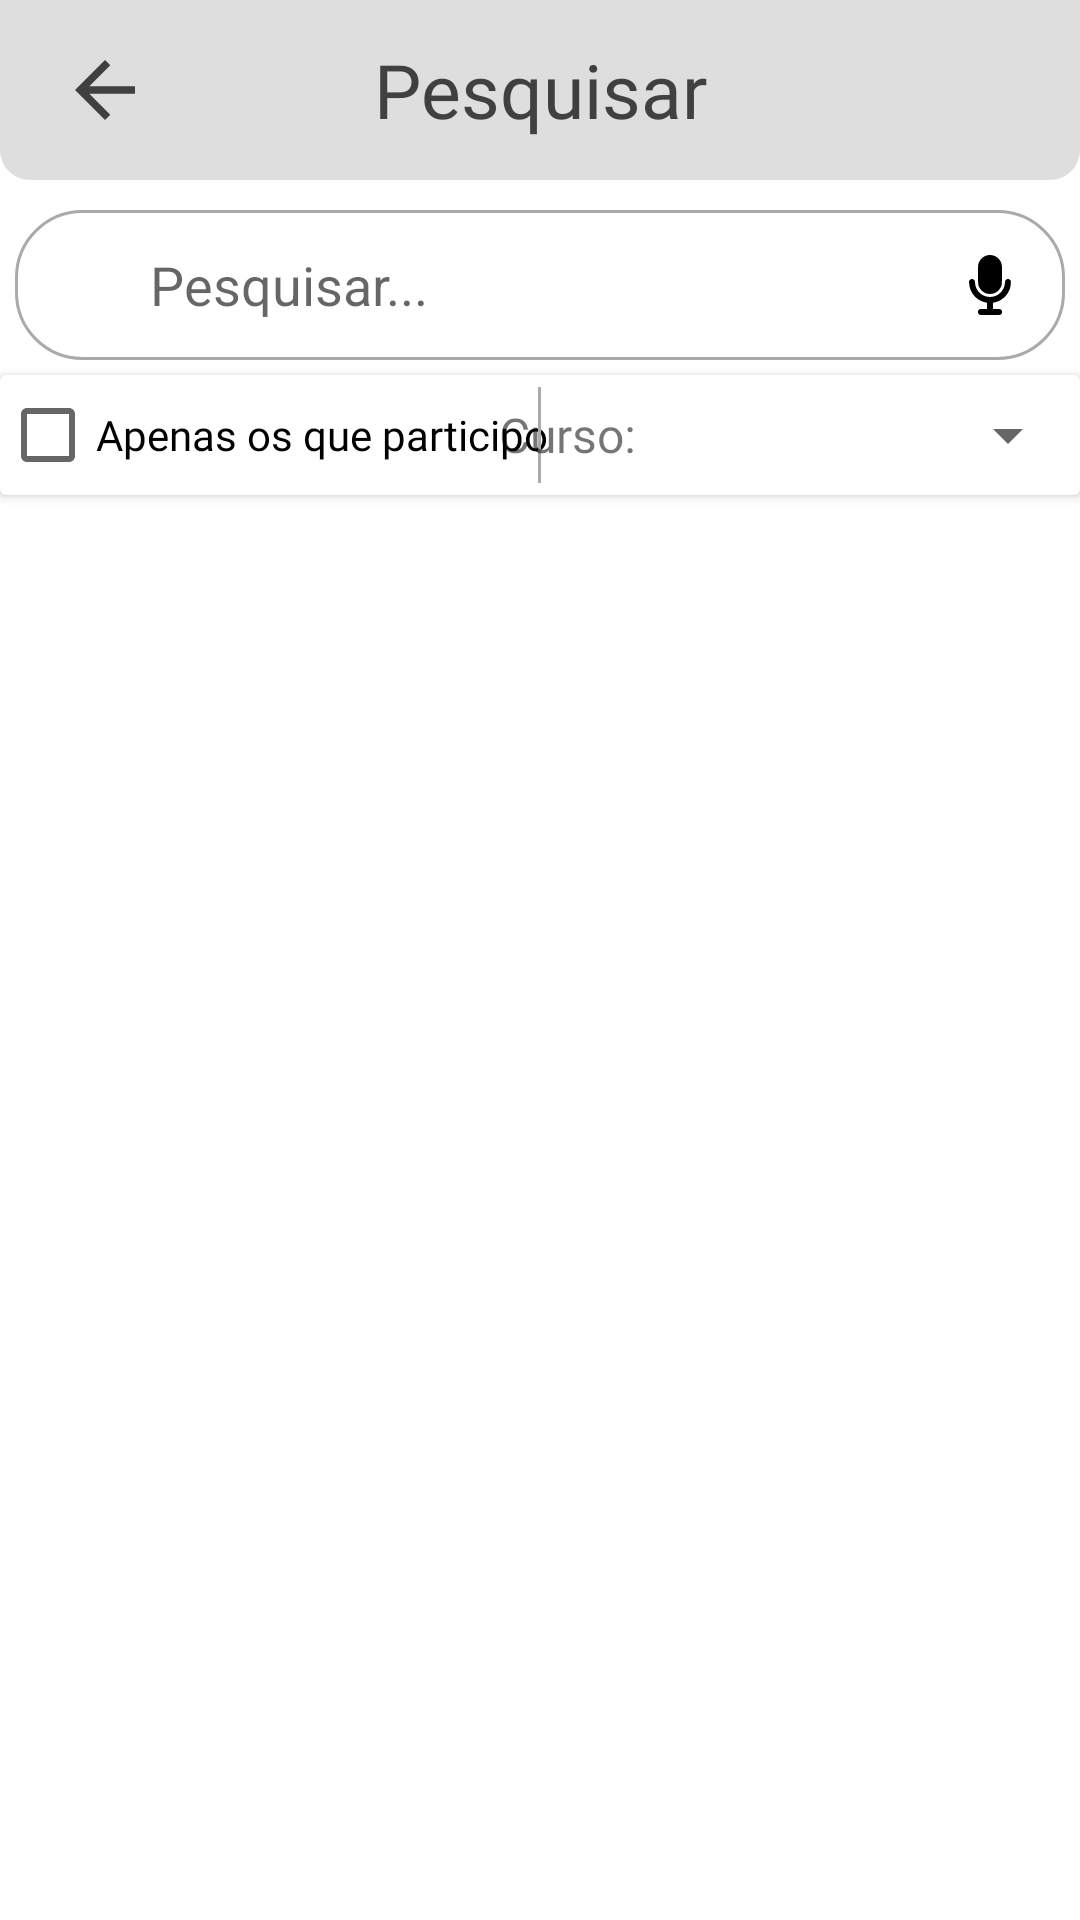

Screen size 1080 × 1920. Icon name, then its box in pixels as (x1, y1, x2, y2):
back: (75, 60, 135, 120)
microphone: (969, 255, 1011, 315)
